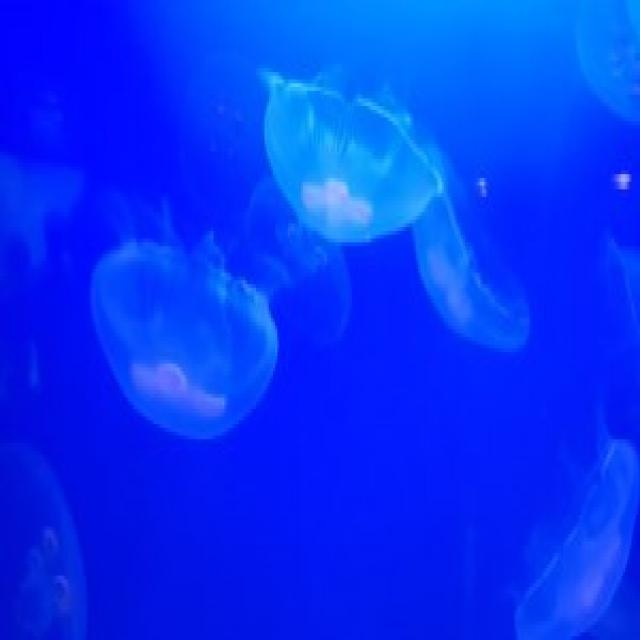Jellyfish: (83, 242, 285, 446), (260, 68, 445, 233), (418, 122, 536, 363), (511, 440, 639, 640), (2, 426, 88, 640), (245, 189, 357, 325)
